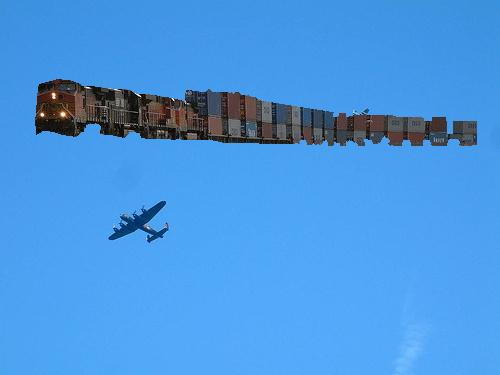tampered: (36, 80, 477, 146)
